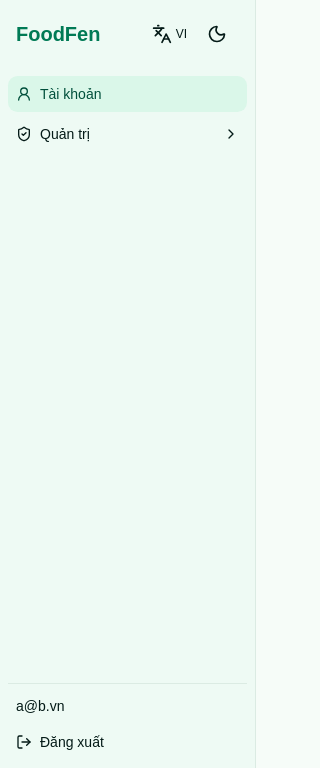
Test: a group opens and closes from its parent button
Expected: the link "FoodFen" is shown, [16,20,100,48]
Expected: the link "Người dùng" is not shown
Click the button "Quản trị": (128, 134) [8,116,247,152]
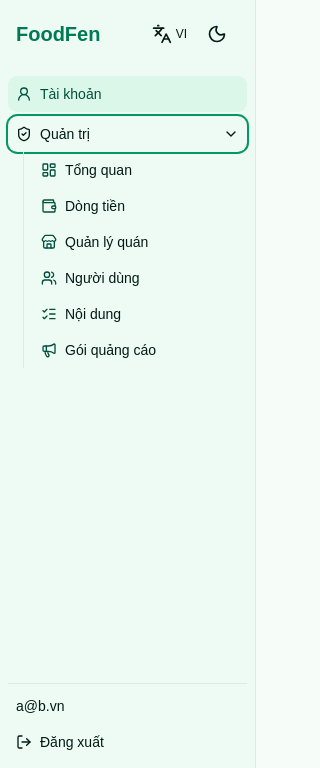
Expected: the button "Quản trị" is expanded
Expected: the link "Người dùng" is shown, [41,270,140,286]
Click the button "Quản trị": (128, 134) [8,116,247,152]
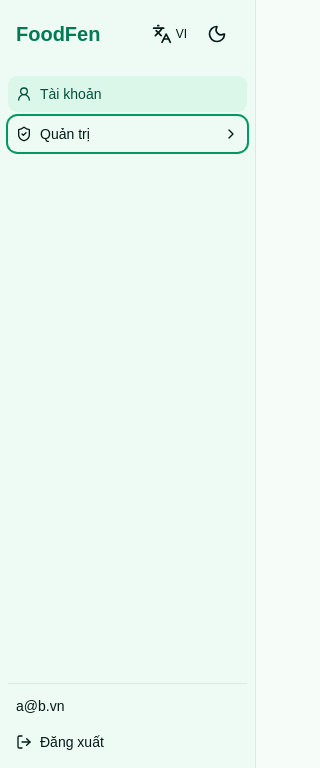
Expected: the button "Quản trị" is collapsed, [8,116,247,152]
